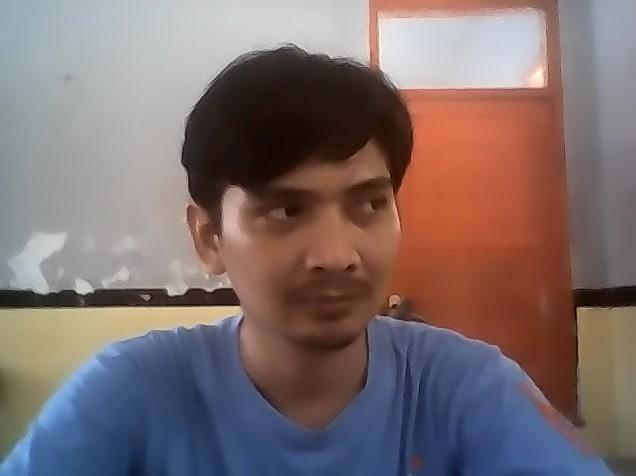cheating: (162, 28, 424, 411)
